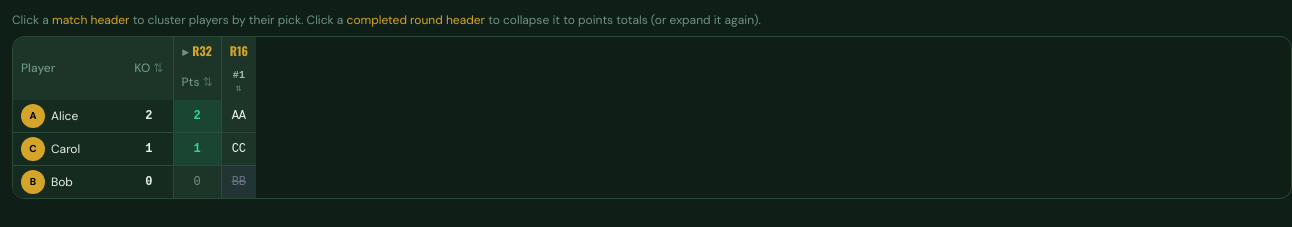
Test: Tweak #2 — KnockoutPredictionMatrix (flipped, collapsible, sortable) › collapses a COMPLETED round by default and expands it on click
Click the column heading titled "Round of 32 — click to expand" at (197, 51), box [173,37,221,65]
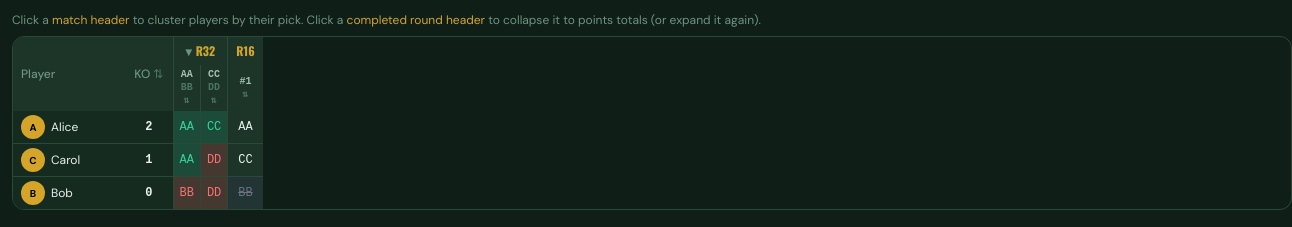
Check: the column heading titled "AA v BB" is shown, box [173,65,200,111]
